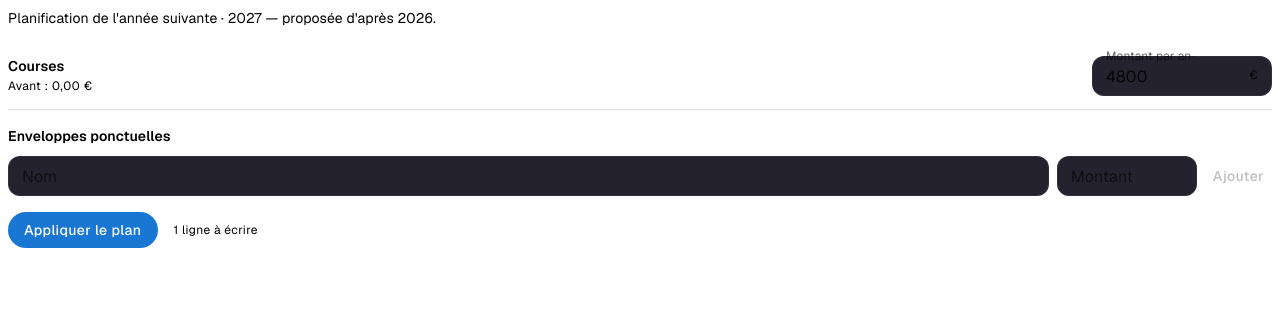
PeriodPlanStep › a year is planned with annual envelopes
This screenshot has width=1280, height=329.
Expected: the number field named "Montant par an Courses" holds "4800", [1092,56,1249,96]
Click the button "Appliquer le plan" at {"x": 83, "y": 230}, box [8,212,158,248]
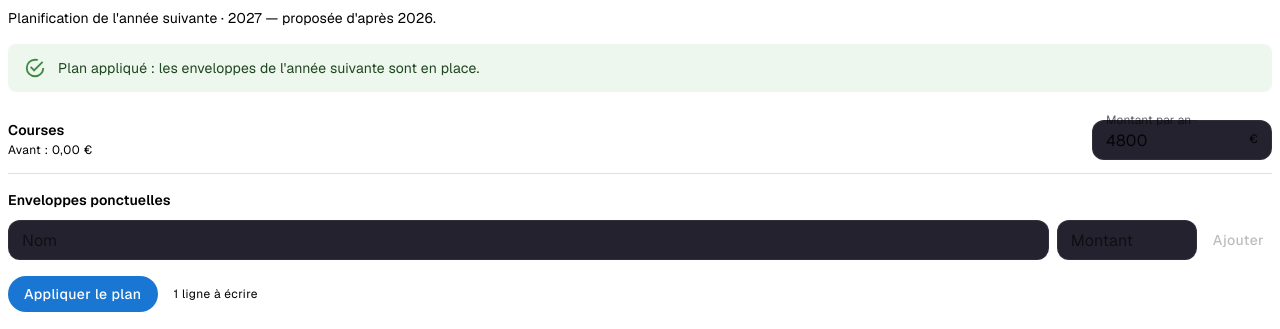
Now the message "Plan appliqué : les enveloppes de l'année suivante sont en place." is shown, box [8,44,1272,92]
